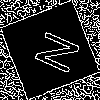N: (25, 25, 81, 76)
